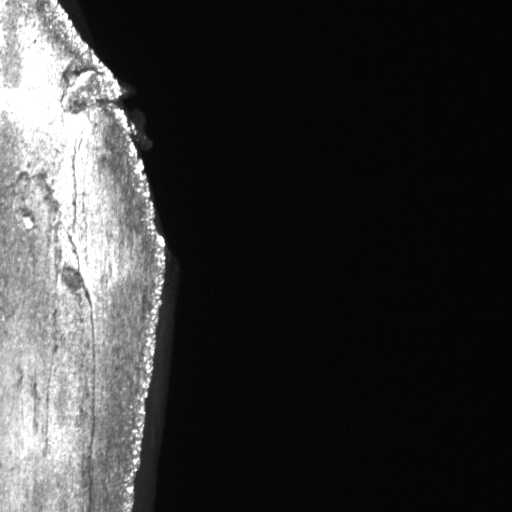bianjiaoliewen: (69, 138, 97, 512)
